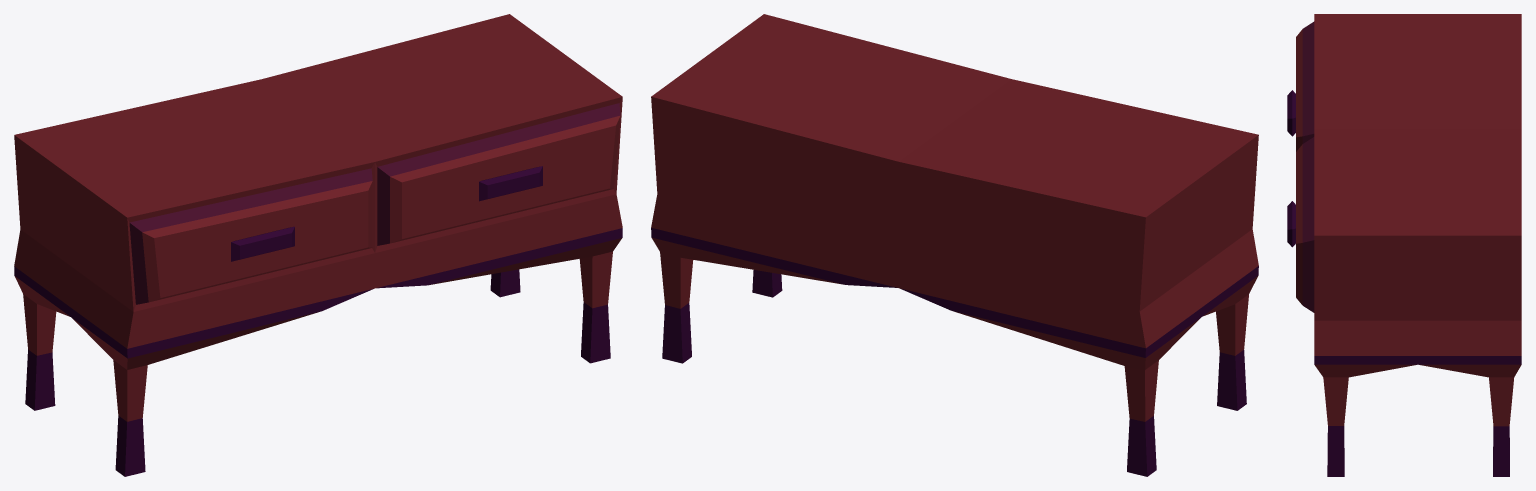
The model's file is Comoda2.fbx.
The picture shows the model from 3 angles, left to right: view 1: azimuth 30°, elevation 25°; view 2: azimuth 150°, elevation 25°; view 3: azimuth 270°, elevation 25°; orthographic projection. The views are drawn at different scales.
Visible parts, largest first — view 1: Comoda2; view 2: Comoda2; view 3: Comoda2.
Part boxes in pixels (left/top/right/bottom): Comoda2: left=14, top=14, right=622, bottom=476; Comoda2: left=651, top=14, right=1258, bottom=476; Comoda2: left=1287, top=14, right=1521, bottom=476.
Size of the model in its own units: 1.75 by 0.8979 by 0.7831.
